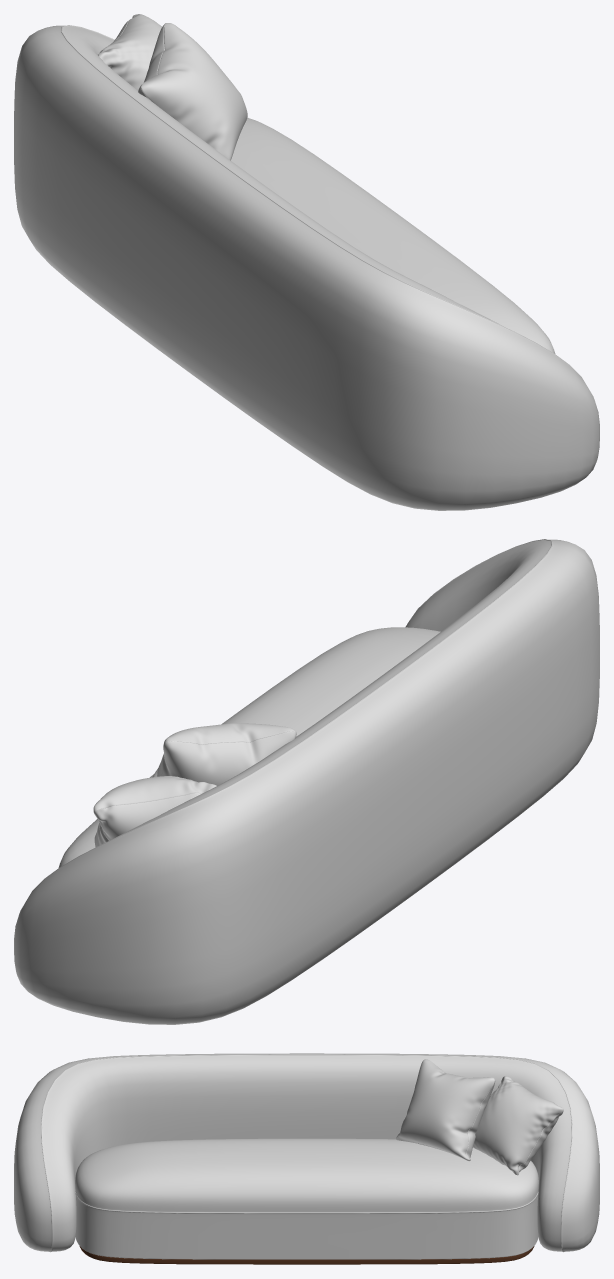
Rendered from sofa.glb.
The picture shows the model from 3 angles, top to bottom: view 1: azimuth 30°, elevation 25°; view 2: azimuth 150°, elevation 25°; view 3: azimuth 270°, elevation 25°; orthographic projection. The views are drawn at different scales.
Visible parts, largest first — view 1: Plane.003, Plane.001, Plane, Plane.002; view 2: Plane.003, Plane.001, Plane, Plane.002; view 3: Plane.001, Plane.003, Plane, Plane.002, Plane.005.
Part boxes in pixels (bbox=[...]): Plane.003: bbox=[14, 25, 599, 510]; Plane.001: bbox=[231, 117, 555, 353]; Plane: bbox=[138, 23, 247, 160]; Plane.002: bbox=[97, 14, 161, 90]; Plane.003: bbox=[14, 539, 599, 1024]; Plane.001: bbox=[58, 627, 440, 867]; Plane: bbox=[152, 723, 296, 785]; Plane.002: bbox=[93, 776, 216, 847]; Plane.001: bbox=[75, 1138, 538, 1259]; Plane.003: bbox=[14, 1053, 599, 1252]; Plane: bbox=[396, 1059, 495, 1161]; Plane.002: bbox=[473, 1076, 563, 1175]; Plane.005: bbox=[79, 1246, 534, 1264].
Size of the model in its own units: 1.64 by 1.53 by 5.29.
